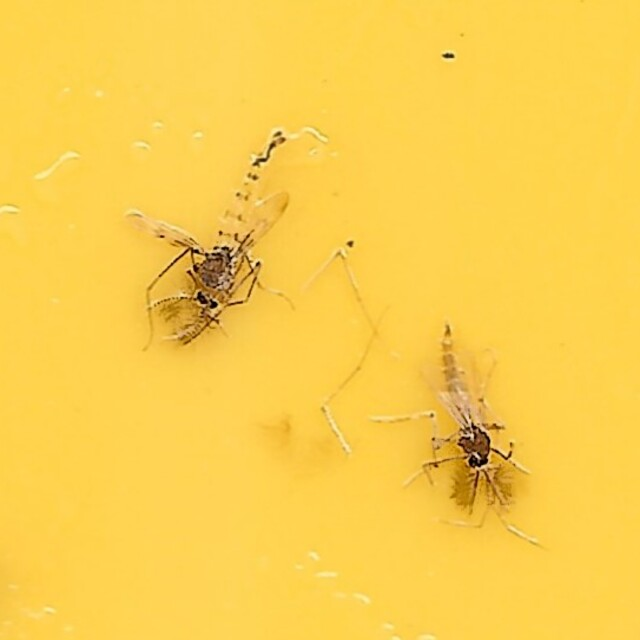Nematocera: (118, 118, 286, 347), (402, 322, 522, 522)
